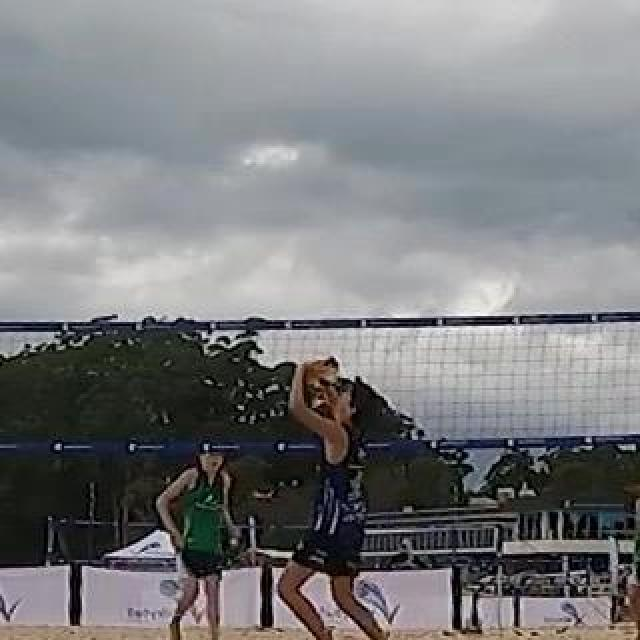volleyball: (303, 353, 339, 393)
